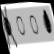correct: (39, 6, 53, 34)
not correct: (1, 5, 19, 51)
